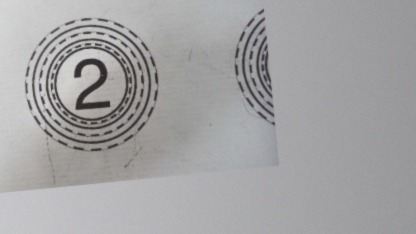2r: (16, 11, 165, 158)
